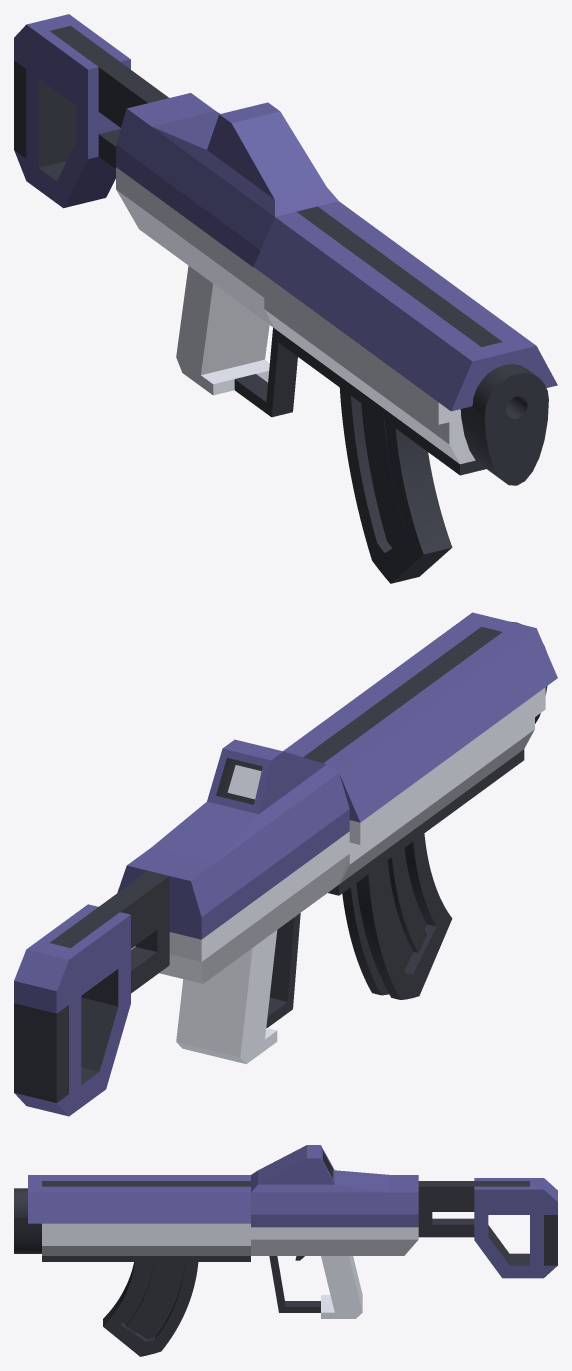
The model's file is Gun.fbx.
3 renders of one model, top to bottom at view 1: azimuth 30°, elevation 25°; view 2: azimuth 150°, elevation 25°; view 3: azimuth 270°, elevation 25°, orthographic. The views are drawn at different scales.
Visible parts, largest first — view 1: mergedBlocks; view 2: mergedBlocks; view 3: mergedBlocks.
Part boxes in pixels (x1,y1,x2,y2): mergedBlocks: (14,14,557,583); mergedBlocks: (14,612,557,1116); mergedBlocks: (14,1145,557,1356).
Bounding box in the file's own units: 5 × 15.89 × 39.
